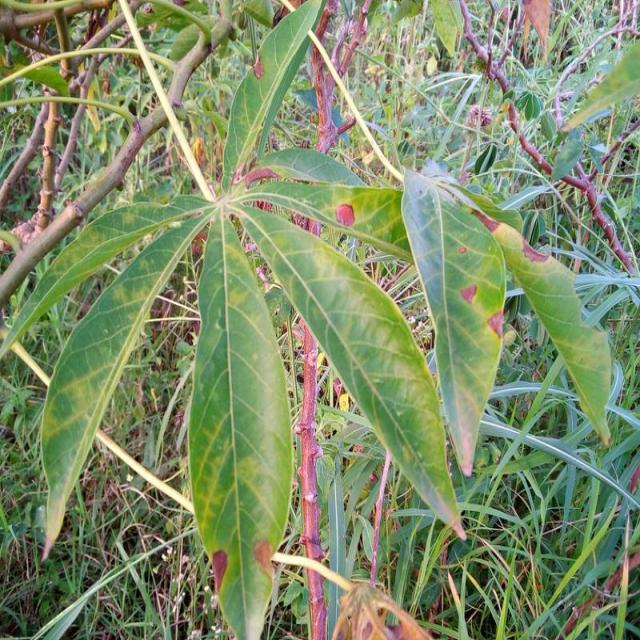cassava leaf: (234, 201, 467, 542), (38, 195, 214, 563), (187, 208, 293, 638), (399, 163, 507, 477), (476, 212, 613, 448), (221, 0, 326, 192)
